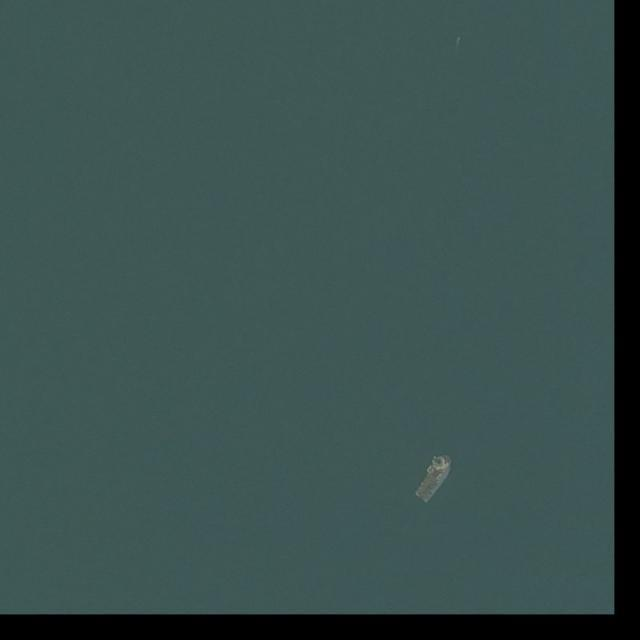ship: (414, 450, 454, 504), (455, 36, 462, 45)
